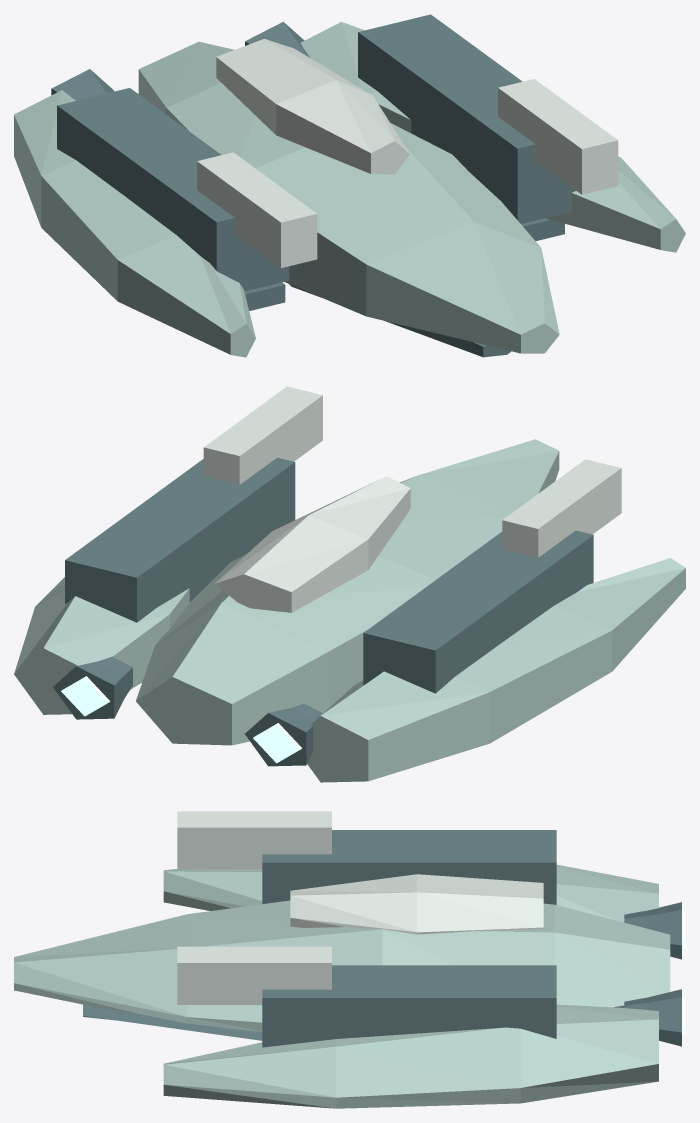
The picture shows the model from 3 angles, top to bottom: view 1: azimuth 30°, elevation 25°; view 2: azimuth 150°, elevation 25°; view 3: azimuth 270°, elevation 25°; orthographic projection. The views are drawn at different scales.
Bounding box in the file's own units: 13.85 × 4.3 × 17.36.
